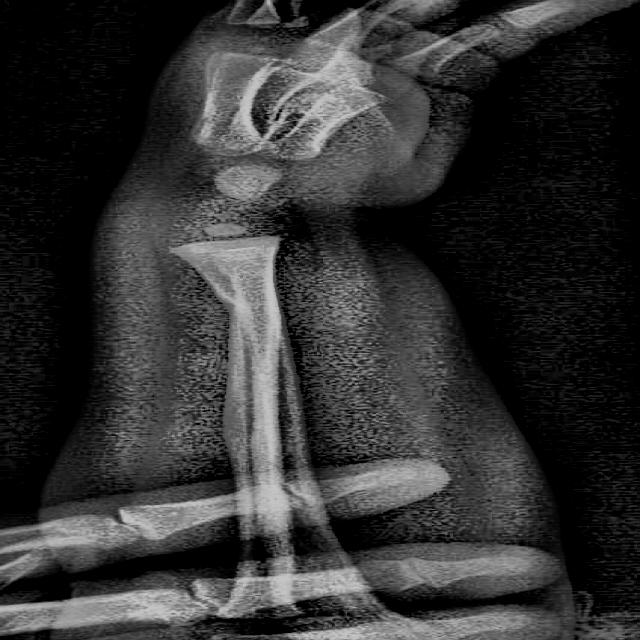line: (214, 293, 249, 314)
